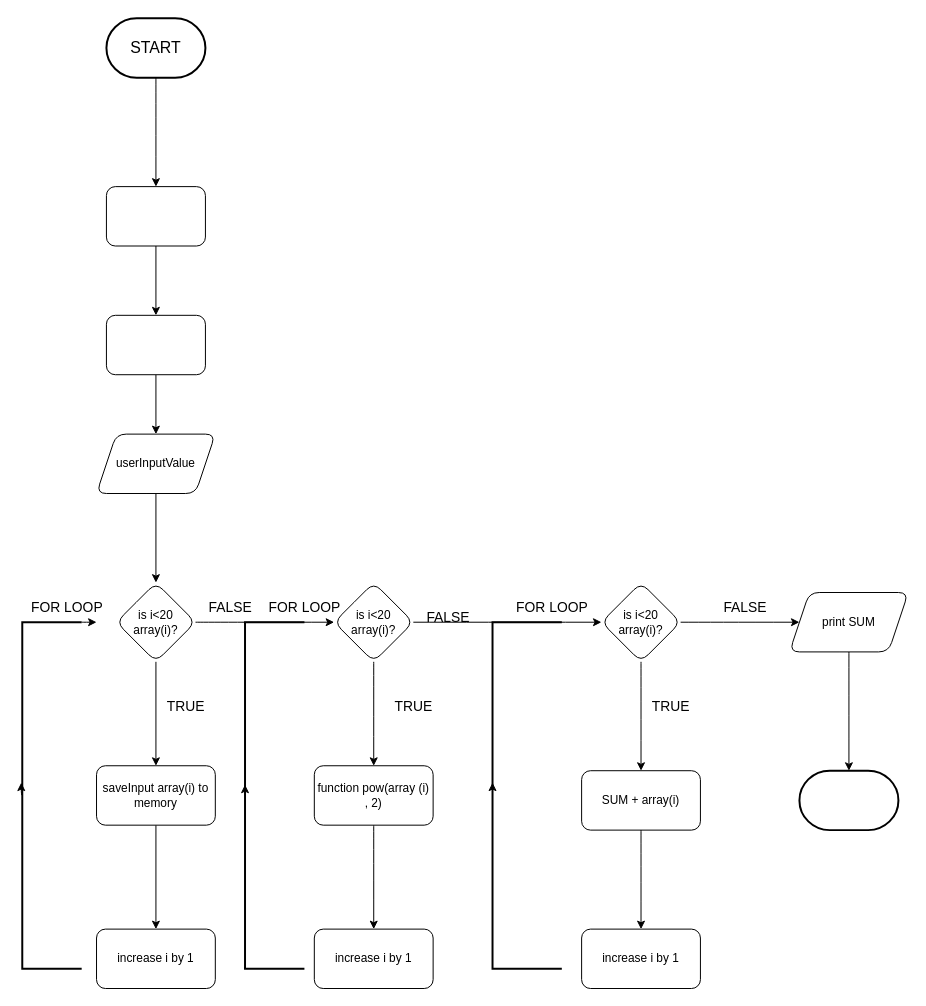
The diagram is 926 pixels wide and 1006 high, and some of its shapes have lost their labels. Here are the shapes that lost their labels. From the top down, the centre of each, then its label:
the point at 155,216: define array size, N = 20
the point at 155,344: initialize Variable, SUM = 0
the point at 848,800: END
